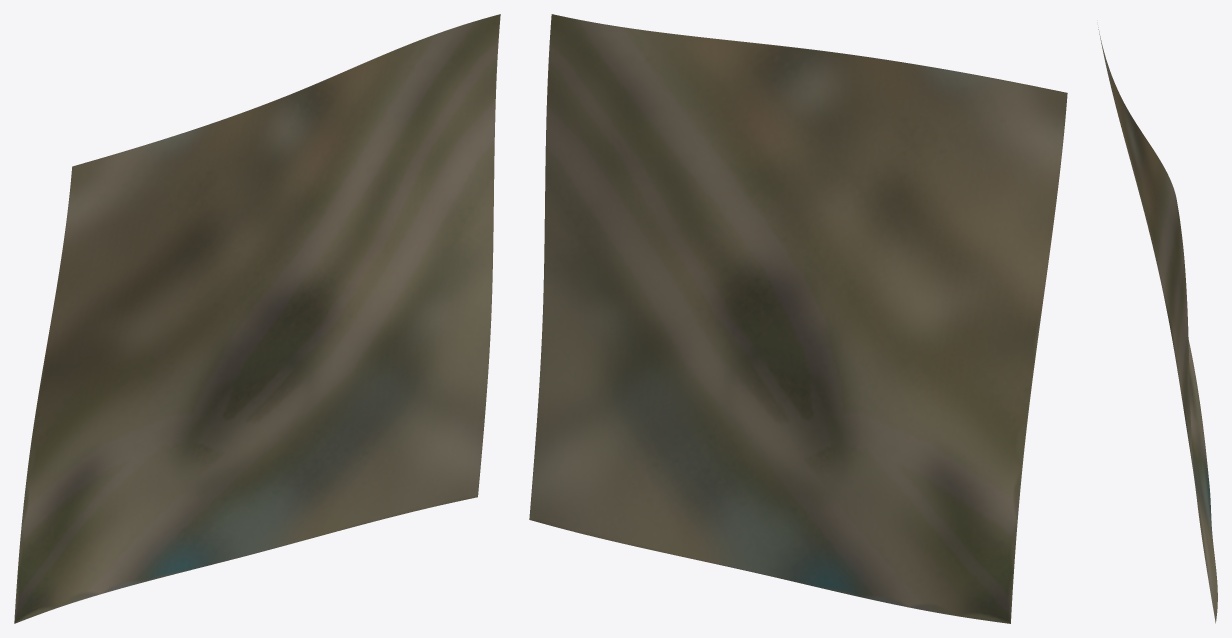
The model's file is ground_core_00_00.obj.
3 views of the same model, side by side, from view 1: azimuth 30°, elevation 25°; view 2: azimuth 150°, elevation 25°; view 3: azimuth 270°, elevation 25° (orthographic). The views are drawn at different scales.
Visible parts, largest first — view 1: ground_core_00_00; view 2: ground_core_00_00; view 3: ground_core_00_00.
Boxes of the visible parts, x1,y1,x2,y2 form: ground_core_00_00: [14, 14, 500, 623]; ground_core_00_00: [529, 14, 1067, 623]; ground_core_00_00: [1098, 27, 1217, 623].
Bounding box in the file's own units: 50 × 50 × 13.27.
1 material, 1 textured.
